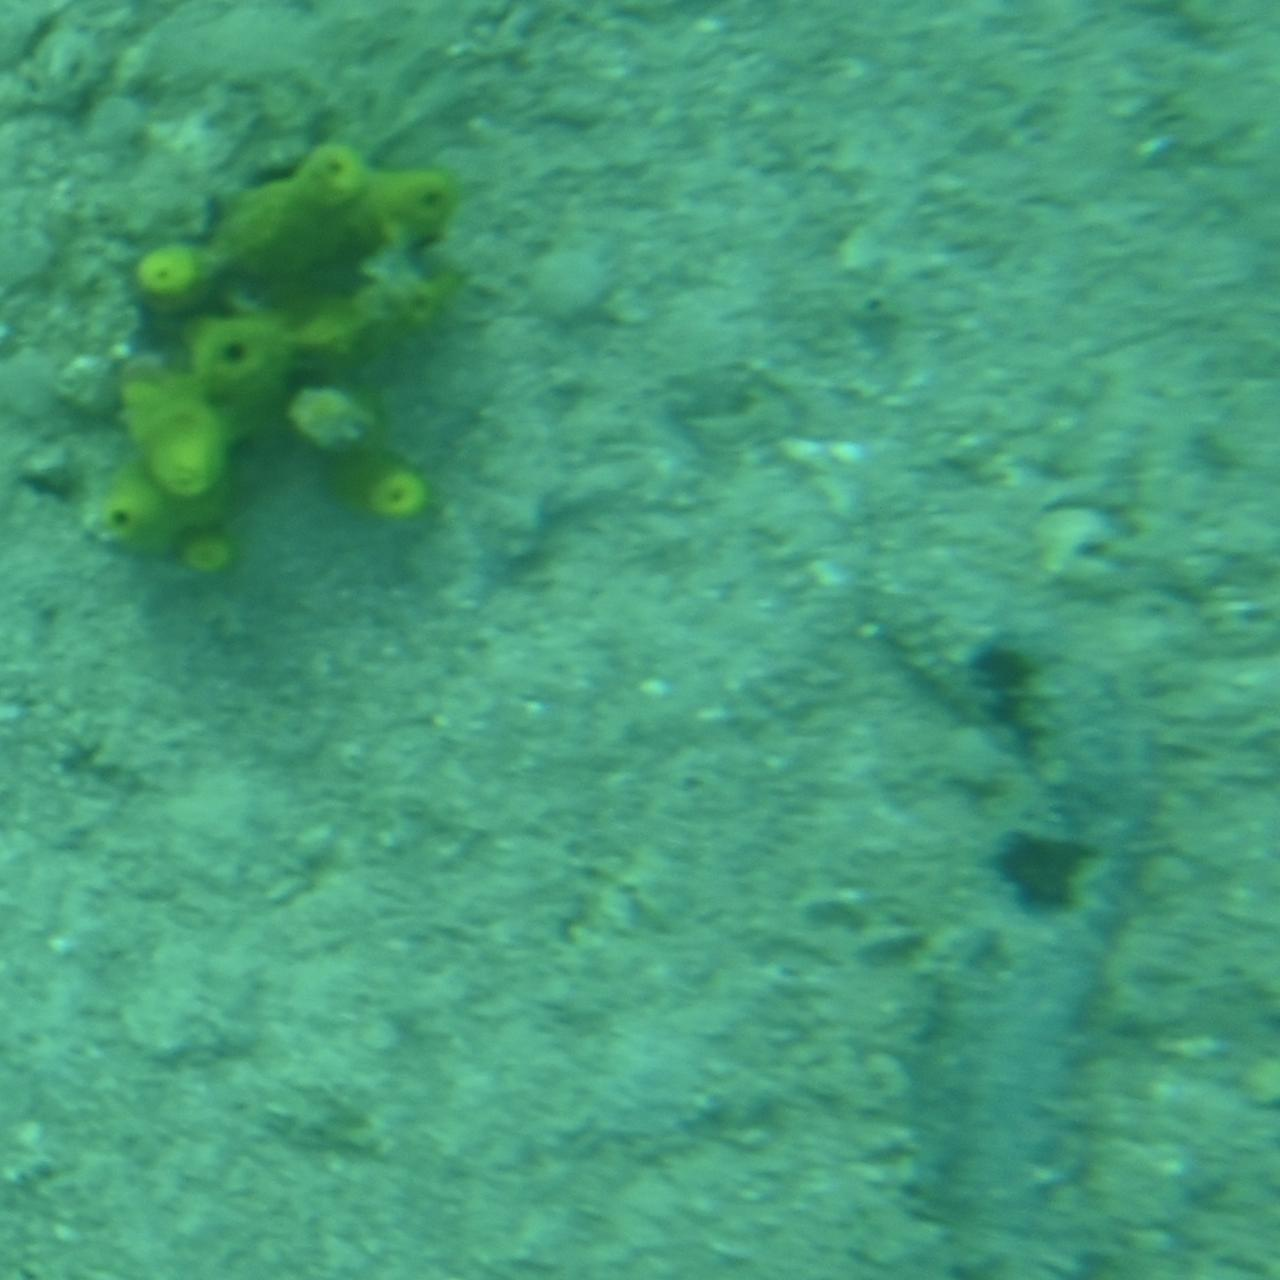Aplysina aerophoba: (69, 147, 465, 604)
Holothuria tubulosa: (869, 488, 1160, 1280)
